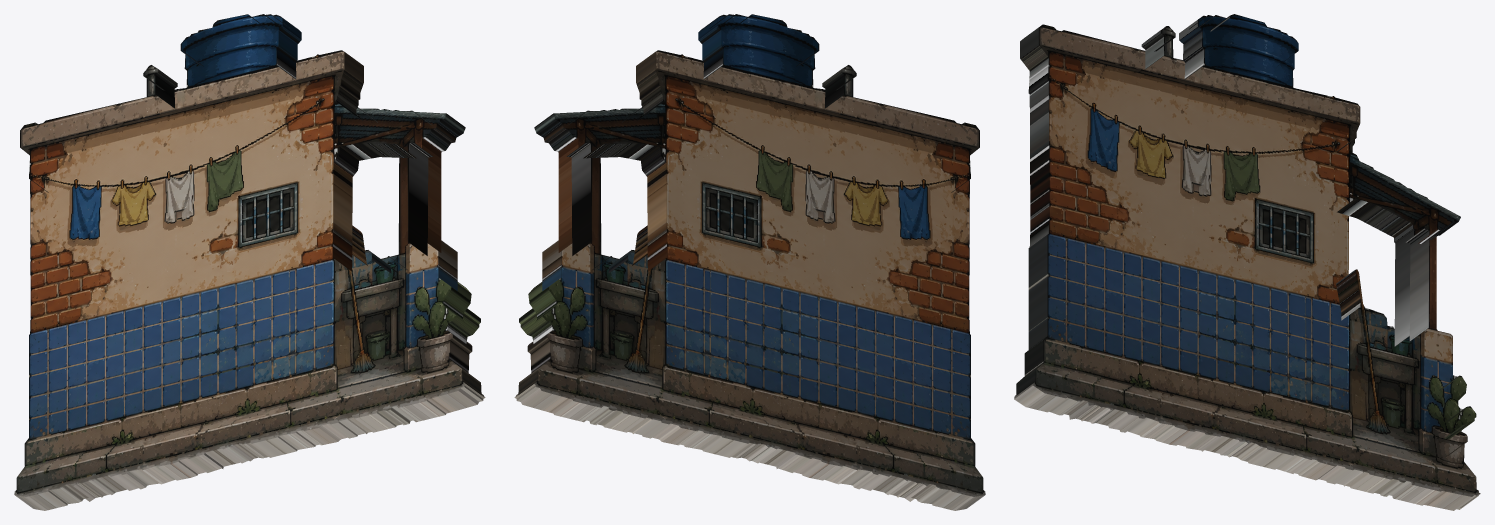
File: house_10_side.glb
The picture shows the model from 3 angles, left to right: view 1: azimuth 30°, elevation 25°; view 2: azimuth 150°, elevation 25°; view 3: azimuth 330°, elevation 25°; orthographic projection.
Visible parts, largest first — view 1: world; view 2: world; view 3: world.
Part boxes in pixels (x1,y1,x2,y2): world: (14, 14, 485, 510); world: (514, 14, 985, 510); world: (1014, 14, 1480, 510).
Size of the model in its own units: 7.72 by 7.05 by 0.5648.
1 material, 1 textured.
